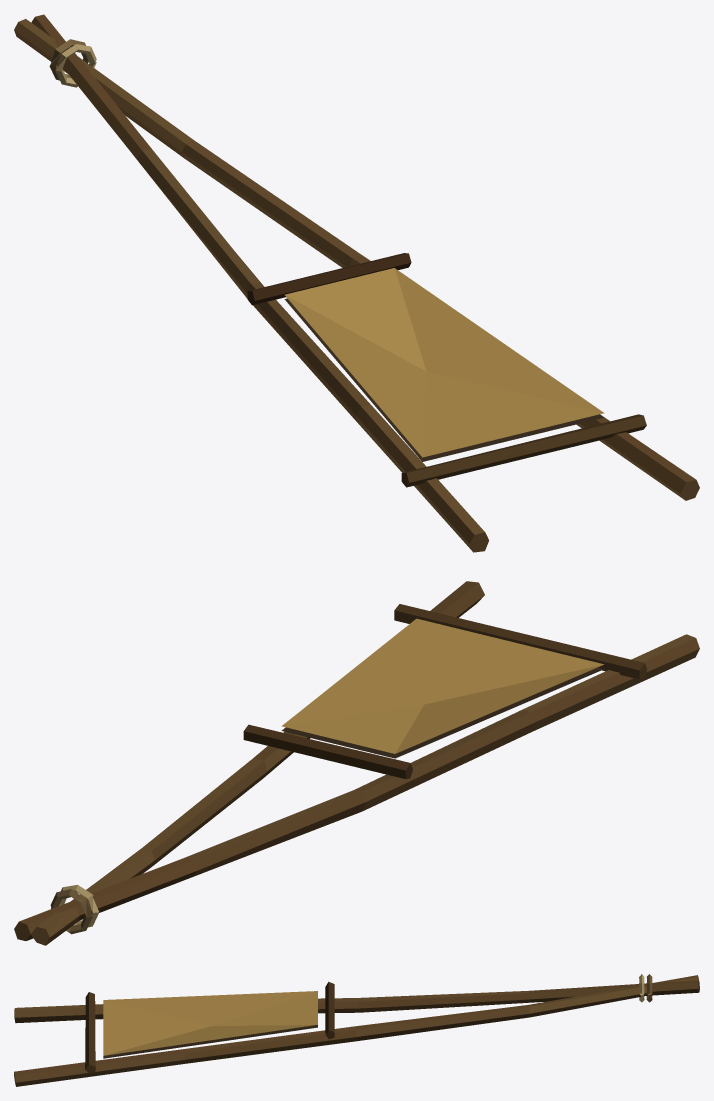
Rendered from toolmaker_hut_travois.glb.
3 views of the same model, one above another, from view 1: azimuth 30°, elevation 25°; view 2: azimuth 150°, elevation 25°; view 3: azimuth 270°, elevation 25° (orthographic). The views are drawn at different scales.
Parts seen in each view (by area): view 1: toolmaker_hut_travois; view 2: toolmaker_hut_travois; view 3: toolmaker_hut_travois.
Boxes of the visible parts, x1,y1,x2,y2 form: toolmaker_hut_travois: (14,14,699,552); toolmaker_hut_travois: (14,581,699,945); toolmaker_hut_travois: (14,974,699,1086).
Size of the model in its own units: 1.12 by 0.5466 by 4.46.
